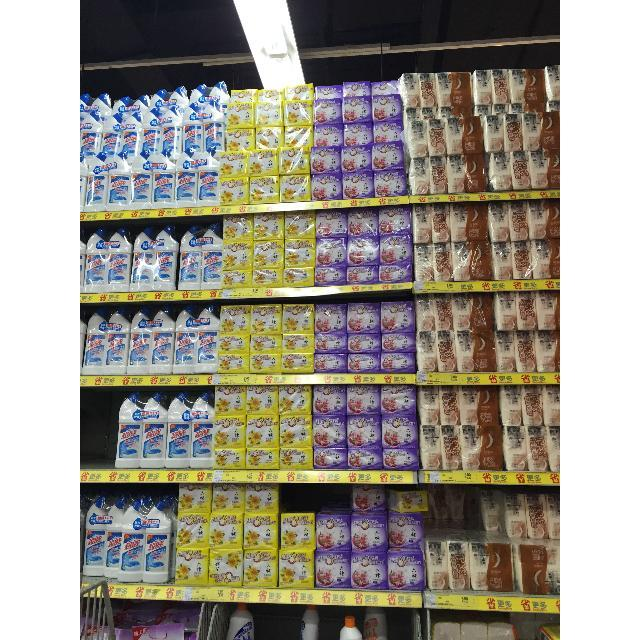empty: (81, 387, 115, 469)
